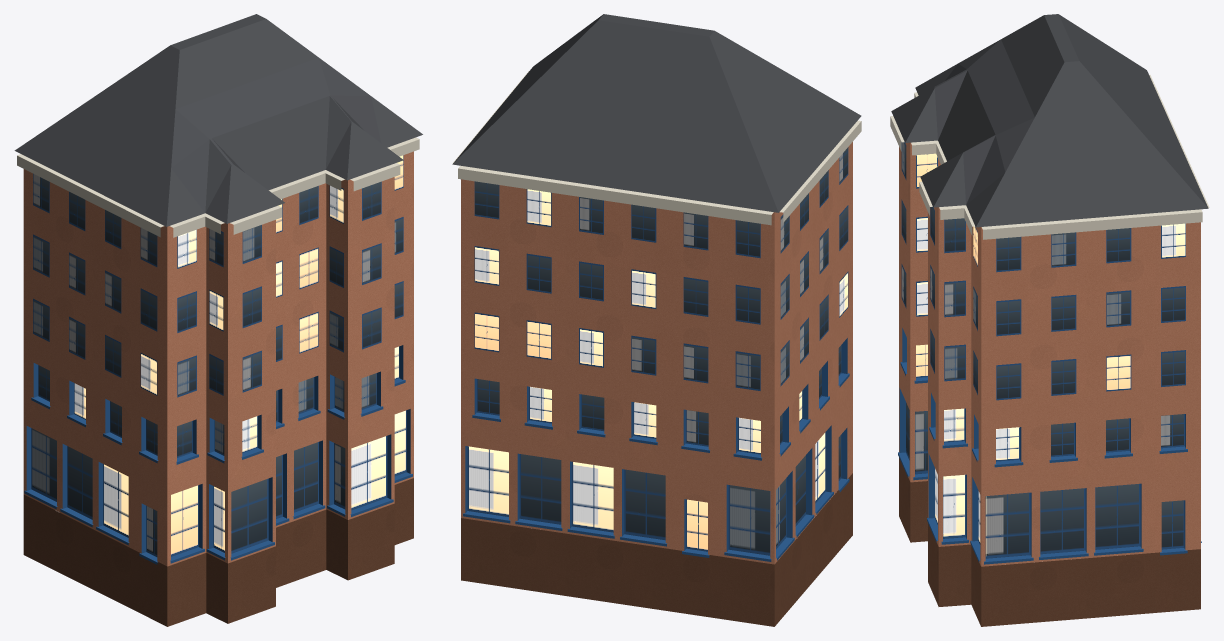
The model's file is z4_birm303.glb.
The picture shows the model from 3 angles, left to right: view 1: azimuth 30°, elevation 25°; view 2: azimuth 150°, elevation 25°; view 3: azimuth 270°, elevation 25°; orthographic projection. The views are drawn at different scales.
Parts seen in each view (by area): view 1: z4_birm303; view 2: z4_birm303; view 3: z4_birm303.
Boxes of the visible parts, box(x1,y1,x2,y2) form: z4_birm303: box(14, 14, 422, 626); z4_birm303: box(452, 14, 861, 626); z4_birm303: box(890, 14, 1209, 626).
Size of the model in its own units: 16.89 by 25.57 by 14.42.
3 materials, 3 textured.
